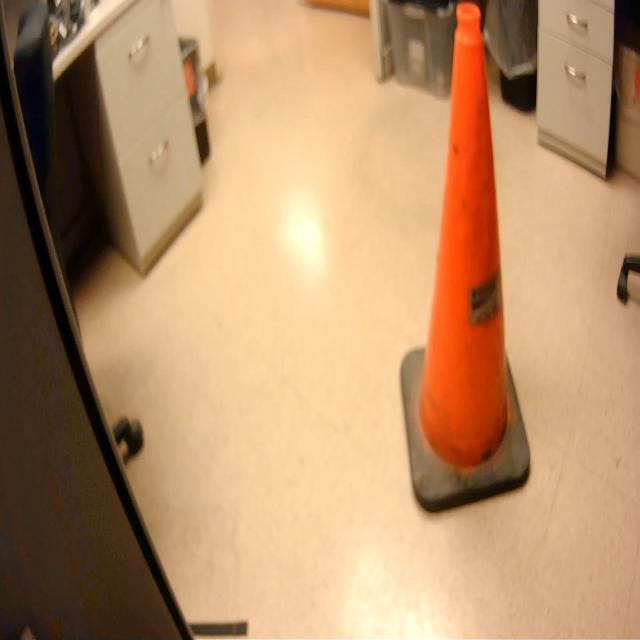traffic cone: (395, 1, 534, 516)
